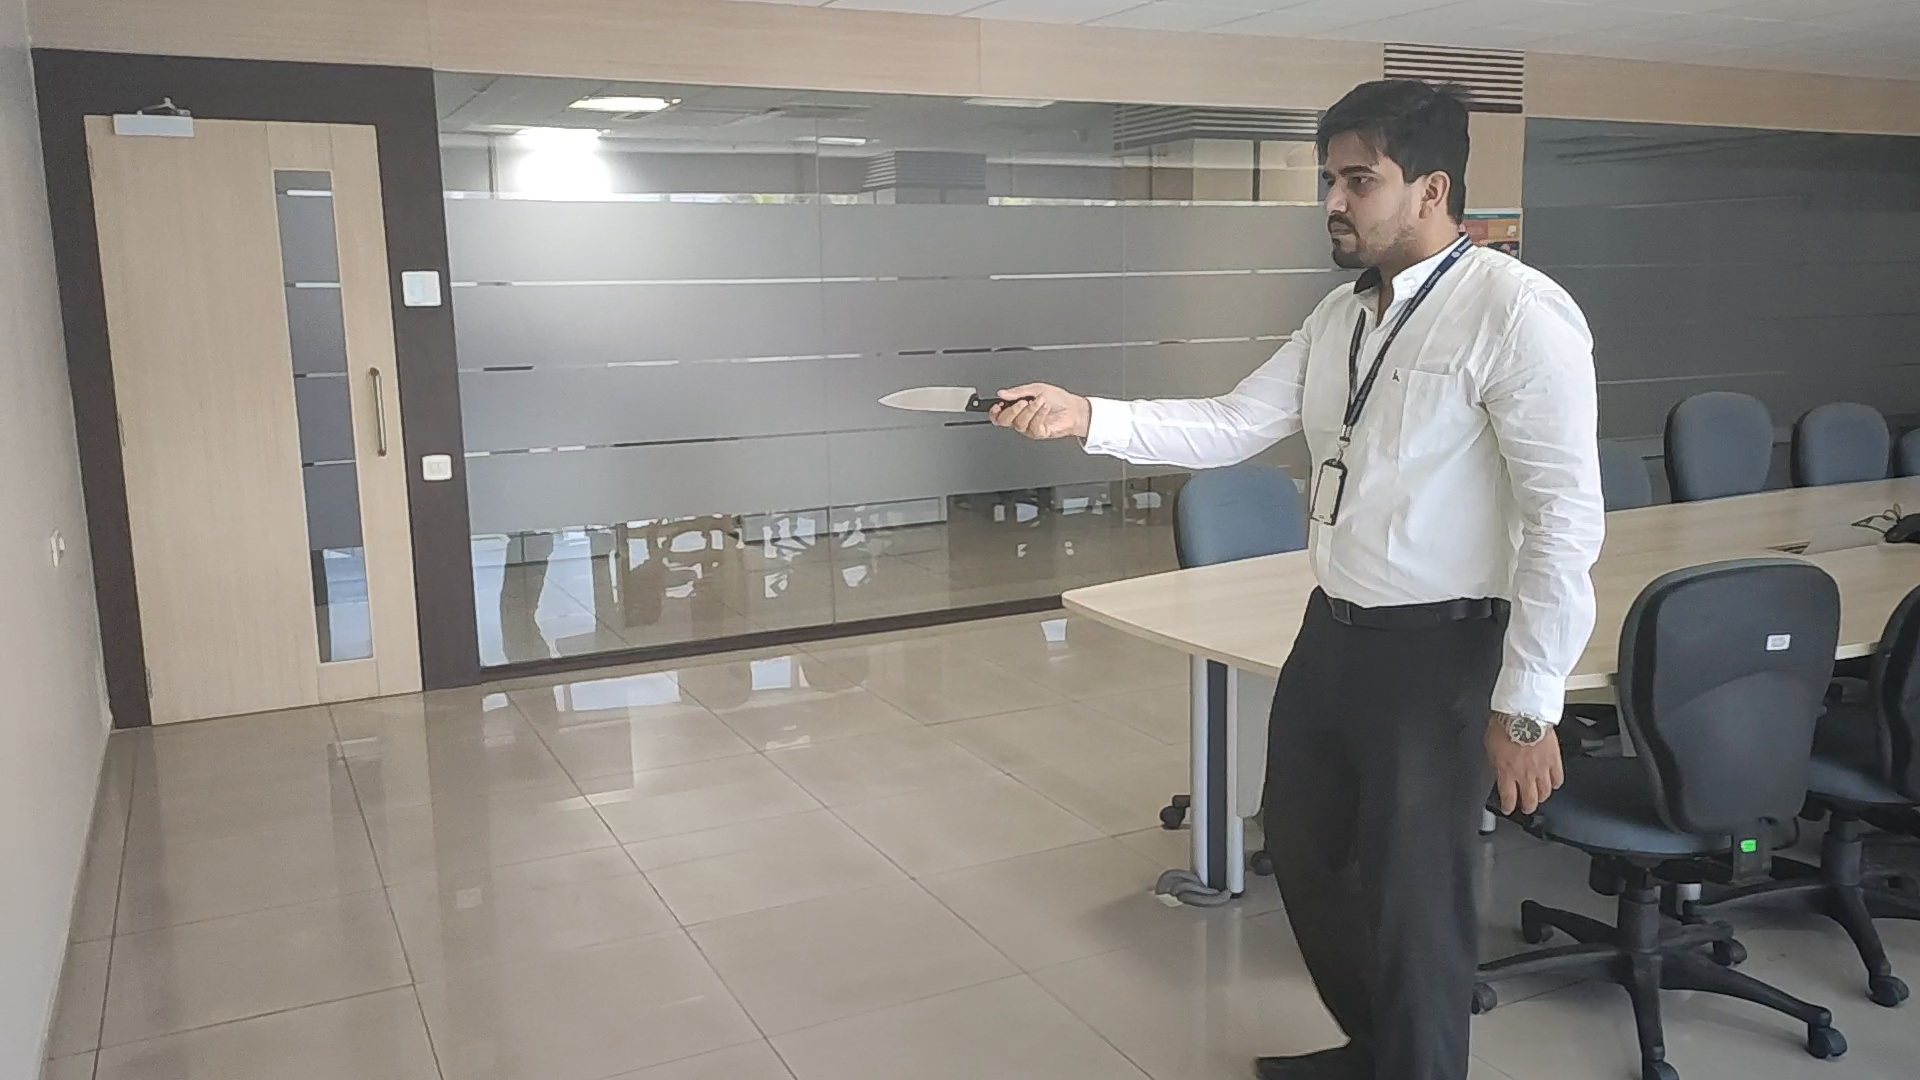knife: (877, 385, 986, 414)
